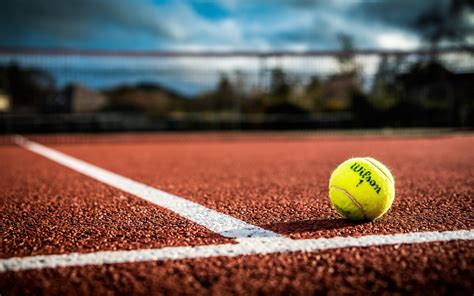tennis_ball: (328, 156, 394, 223)
